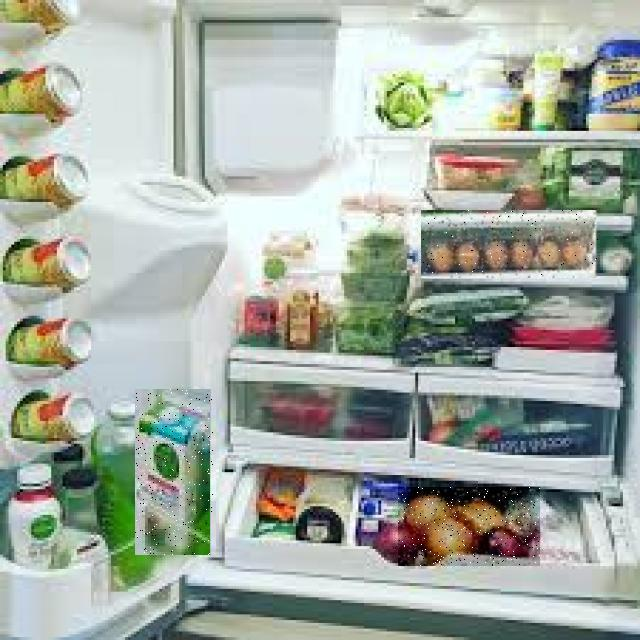Eggs: (422, 210, 600, 278)
Milk: (136, 389, 214, 555)
Onion: (399, 487, 541, 566)
